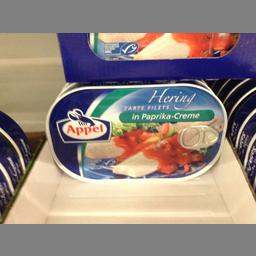fish: (46, 84, 226, 180)
